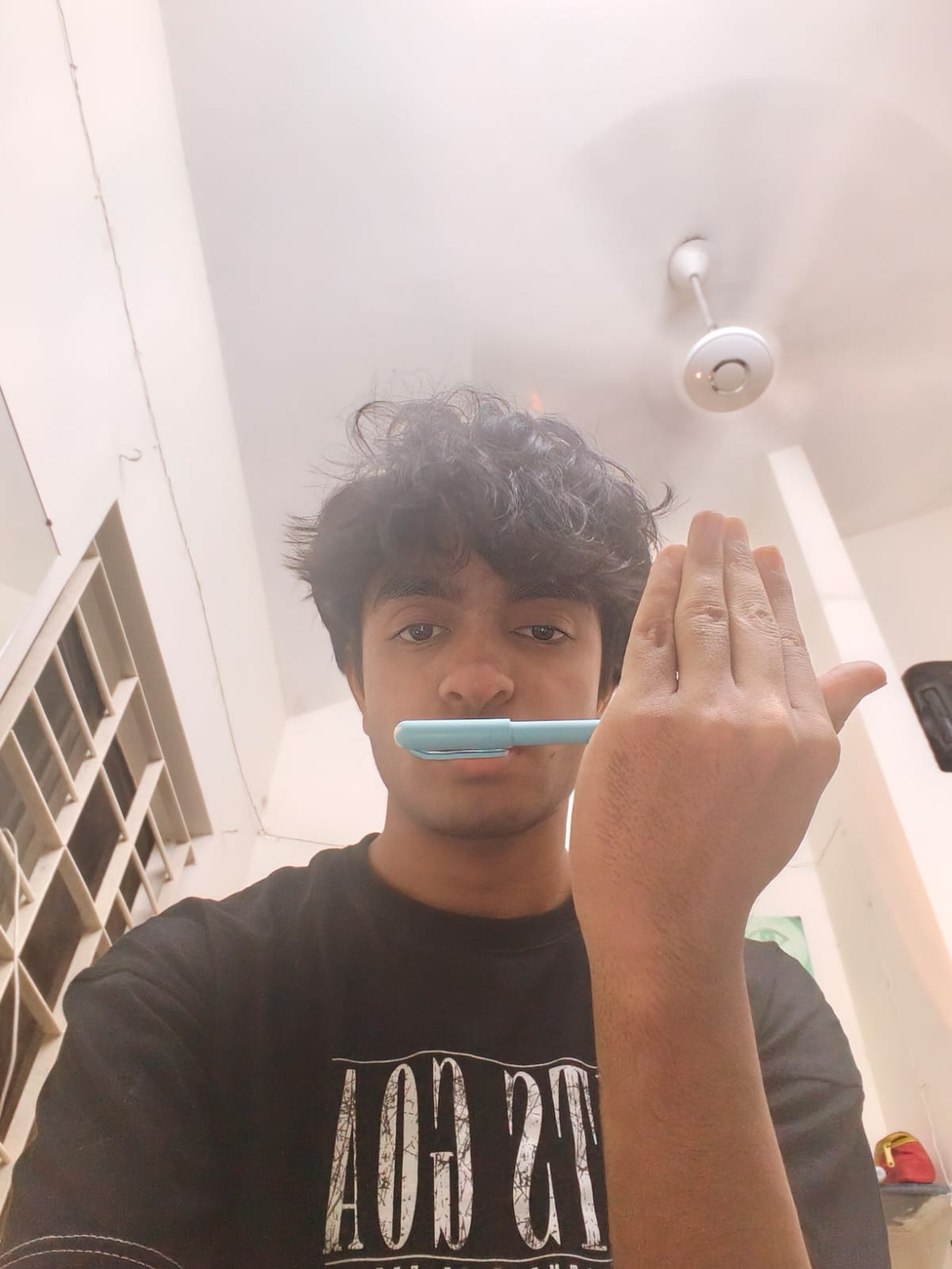pen: (385, 703, 609, 761)
